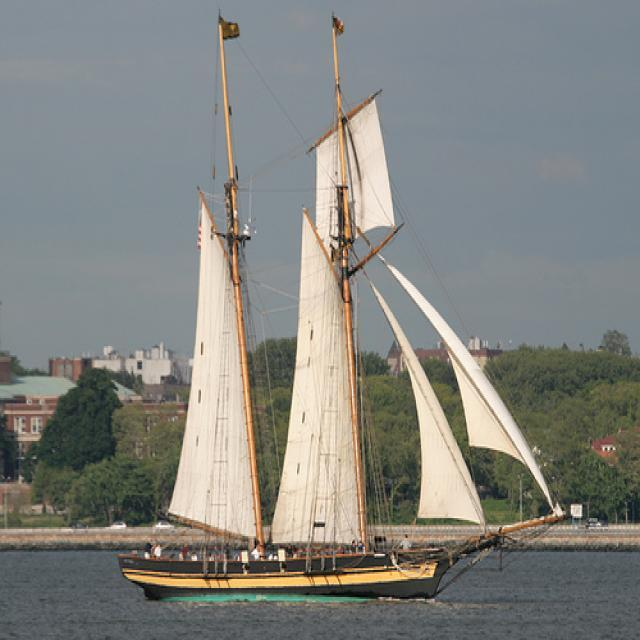Ship: (115, 23, 565, 603)
